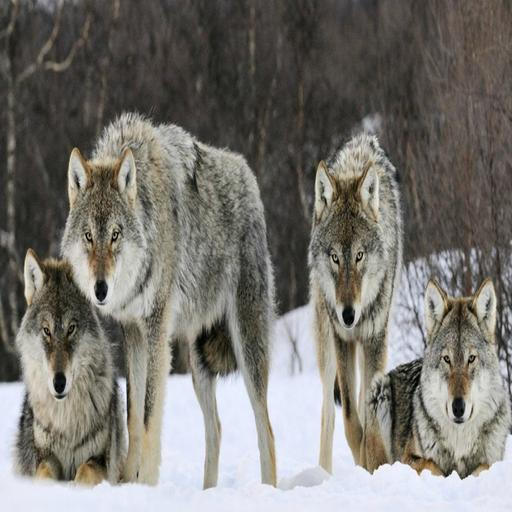Wolf: (57, 109, 290, 485), (302, 129, 407, 476), (359, 277, 512, 488), (14, 246, 132, 490)
